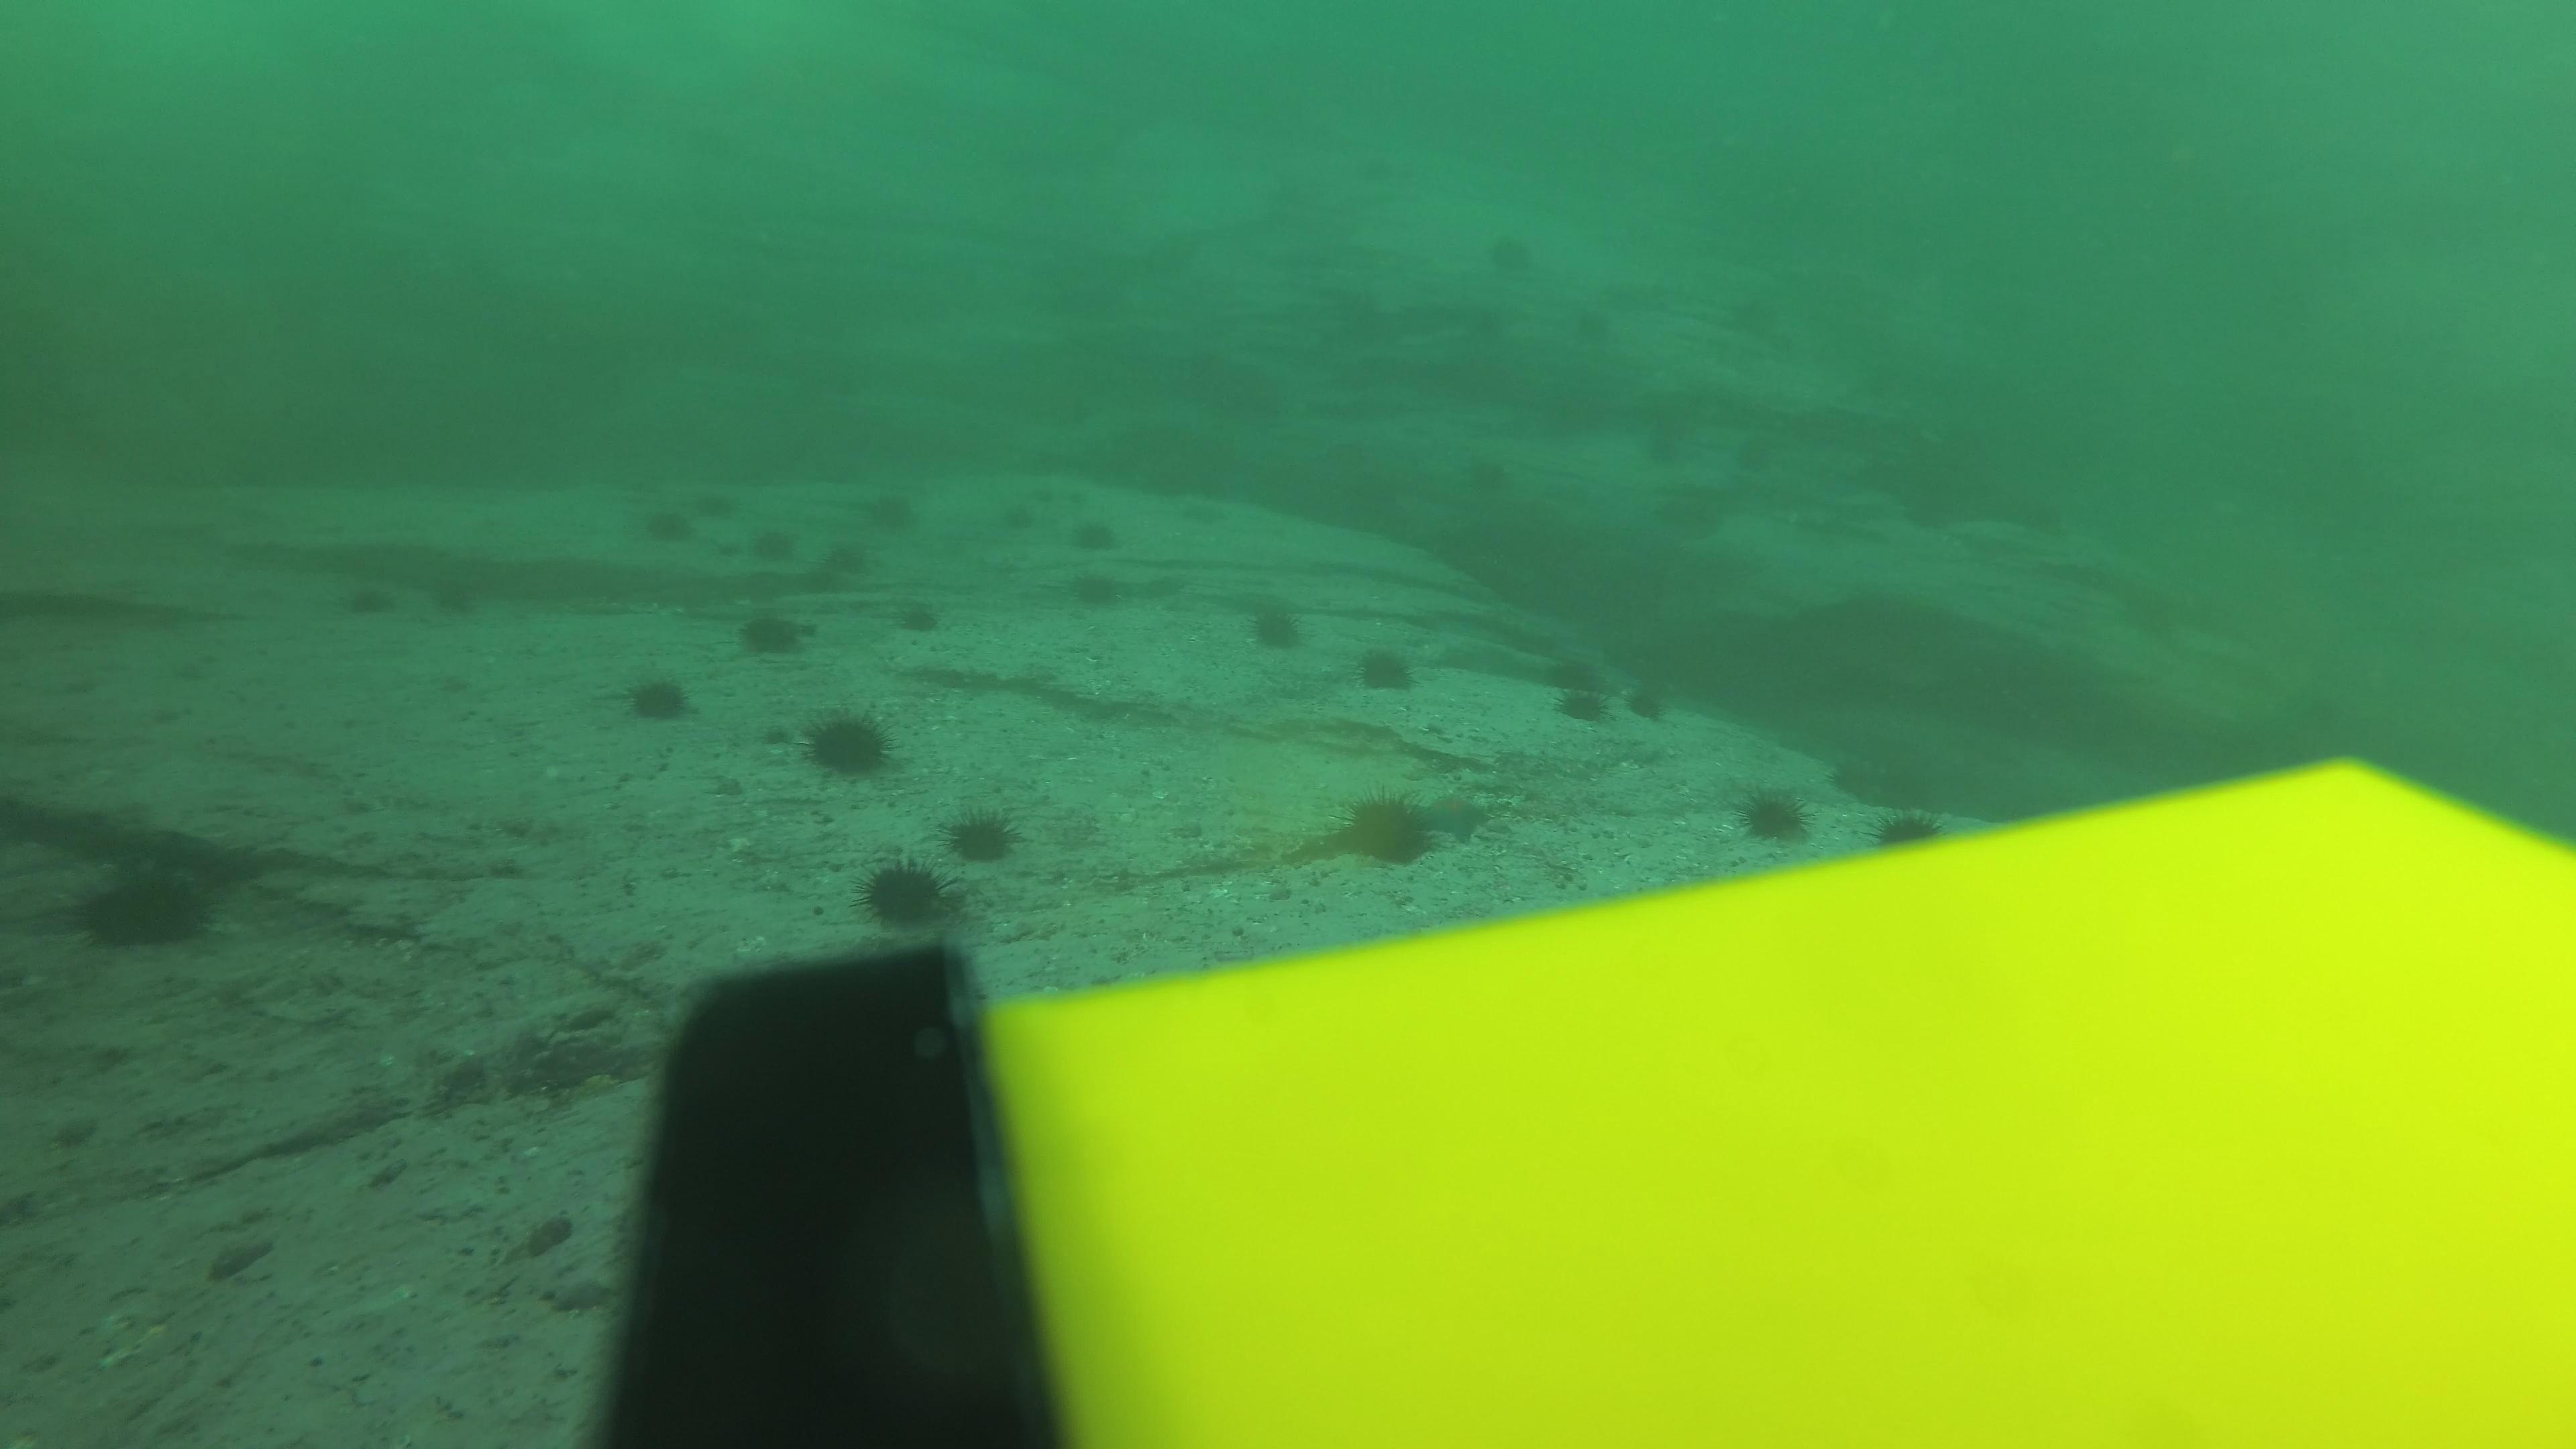echinus: (65, 855, 223, 959), (1323, 784, 1449, 874), (855, 853, 961, 936), (796, 702, 899, 786), (1729, 777, 1819, 851), (1875, 798, 1966, 872), (1235, 589, 1313, 660), (943, 801, 1024, 869), (731, 600, 816, 663), (616, 663, 697, 729), (412, 563, 494, 628), (1350, 637, 1424, 701), (1546, 686, 1624, 732), (1454, 449, 1530, 495), (1546, 655, 1622, 699), (1062, 510, 1127, 559), (1902, 487, 1966, 531), (1564, 301, 1626, 345), (1730, 297, 1794, 340), (1640, 425, 1702, 467), (1723, 428, 1785, 471), (1481, 234, 1543, 276), (345, 580, 403, 623), (678, 488, 736, 531), (865, 494, 924, 536), (1001, 499, 1060, 541), (1062, 563, 1120, 605), (1184, 490, 1242, 533), (644, 506, 702, 547), (741, 520, 800, 561), (819, 536, 878, 577), (890, 594, 948, 635), (1621, 685, 1672, 729)
starfish: (1412, 789, 1497, 849)
